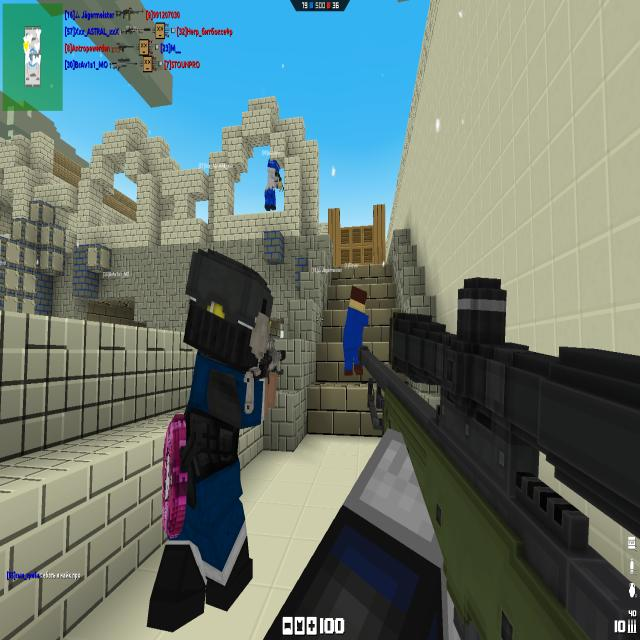player: (147, 247, 278, 632), (343, 285, 370, 377), (265, 158, 283, 212)
